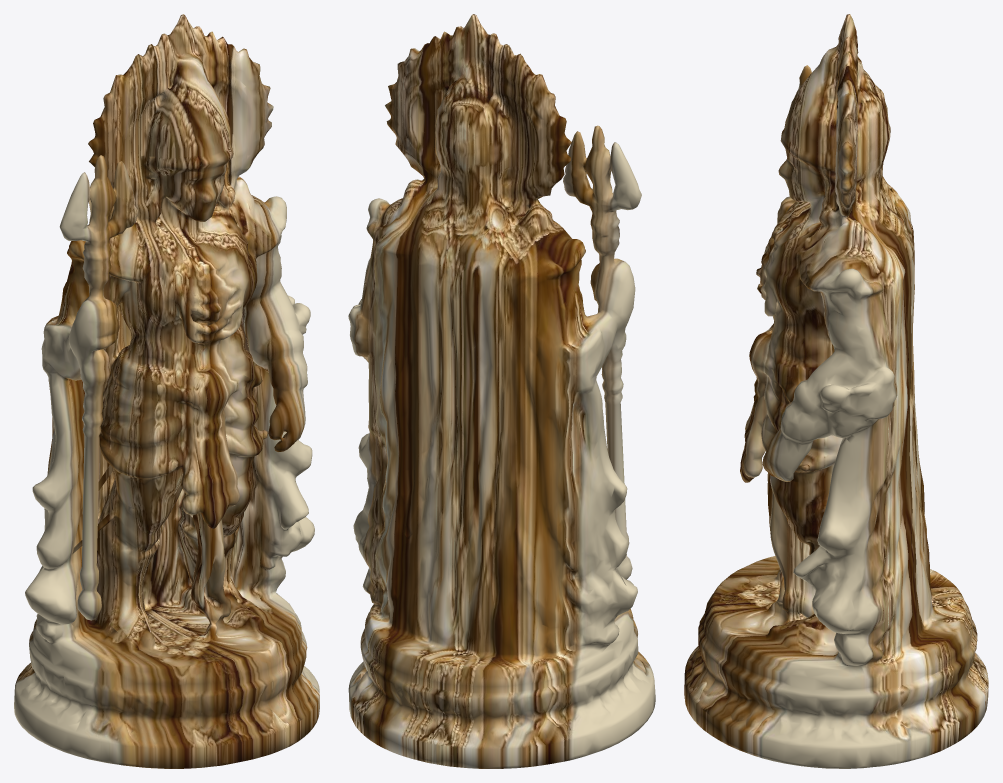
File: raja.glb
3 views of the same model, side by side, from view 1: azimuth 30°, elevation 25°; view 2: azimuth 150°, elevation 25°; view 3: azimuth 270°, elevation 25° (orthographic).
Parts seen in each view (by area): view 1: geometry_0; view 2: geometry_0; view 3: geometry_0.
Part boxes in pixels (x1,y1,x2,y2): geometry_0: (14,14,319,768); geometry_0: (348,14,655,768); geometry_0: (684,14,988,768).
Bounding box in the file's own units: 0.8433 × 1.97 × 0.7743.
Materials: 1 (1 with a texture image).
